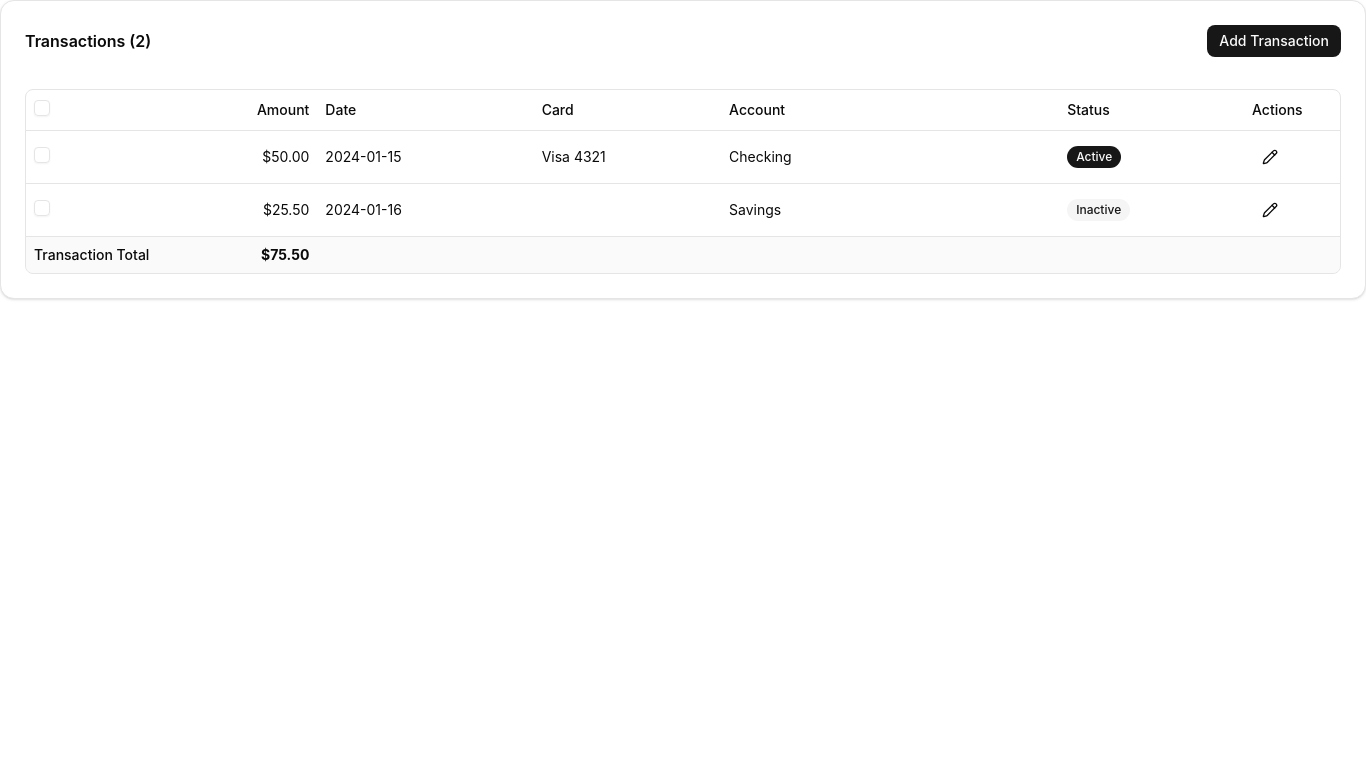
Test: ReceiptTransactionsCard › opens edit dialog when Edit button is clicked
Click the button named "edit" in the row of "$50.00": (1270, 156) [1252,138,1288,174]
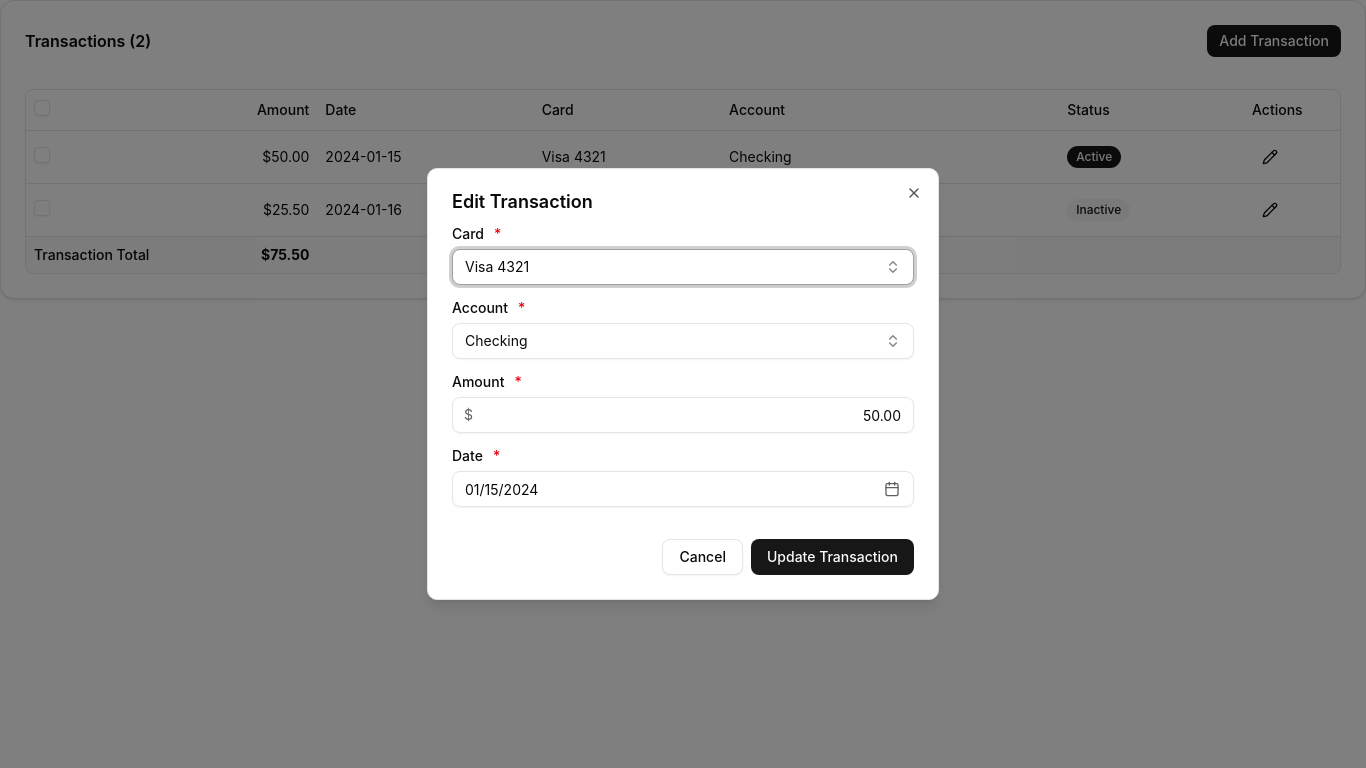
Check: the heading "Edit Transaction" is shown, box [452,191,593,212]
